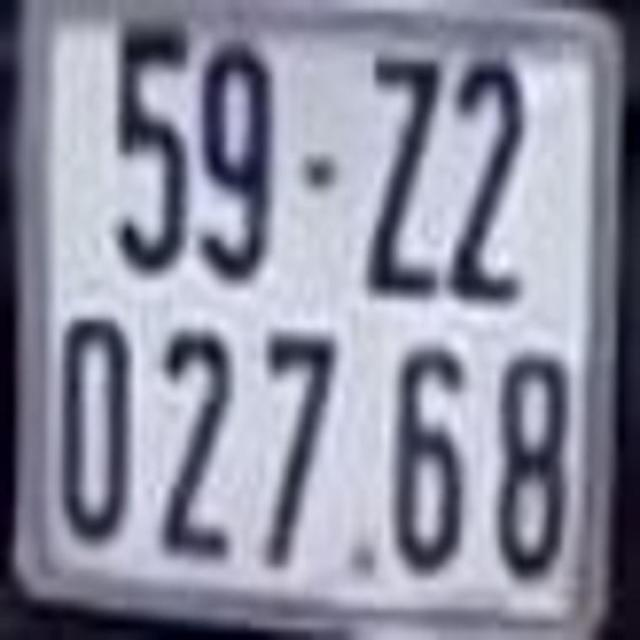0: (60, 318, 129, 540)
2: (453, 60, 524, 303), (160, 330, 232, 559)
5: (114, 24, 190, 273)
6: (398, 347, 463, 574)
7: (262, 331, 334, 568)
8: (500, 356, 565, 577)
9: (199, 39, 272, 280)
Z: (369, 52, 441, 298)
